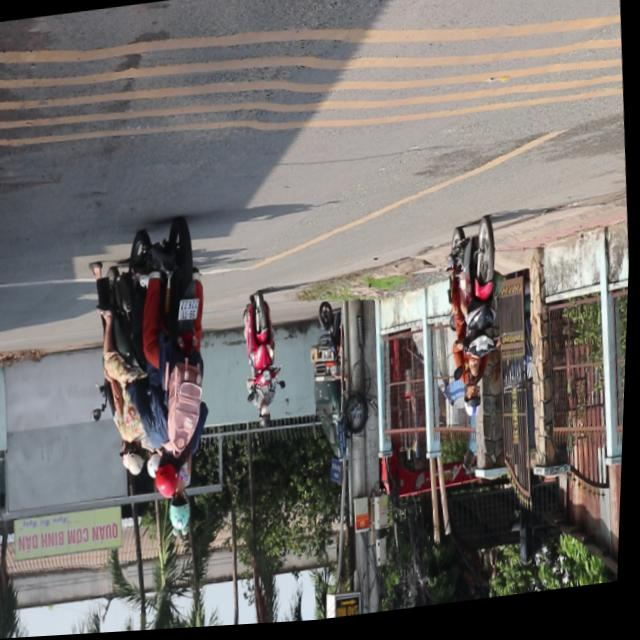helmet: (157, 454, 185, 506), (170, 491, 198, 536), (465, 385, 488, 425)
licenseplate: (122, 218, 231, 540), (440, 221, 516, 429)
motorcyclist: (470, 359, 488, 389)
nohelmet: (180, 302, 202, 324)
